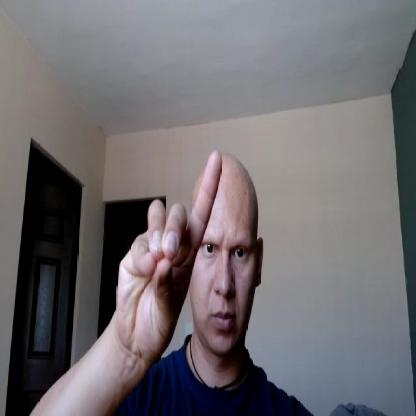D: (117, 149, 223, 347)
